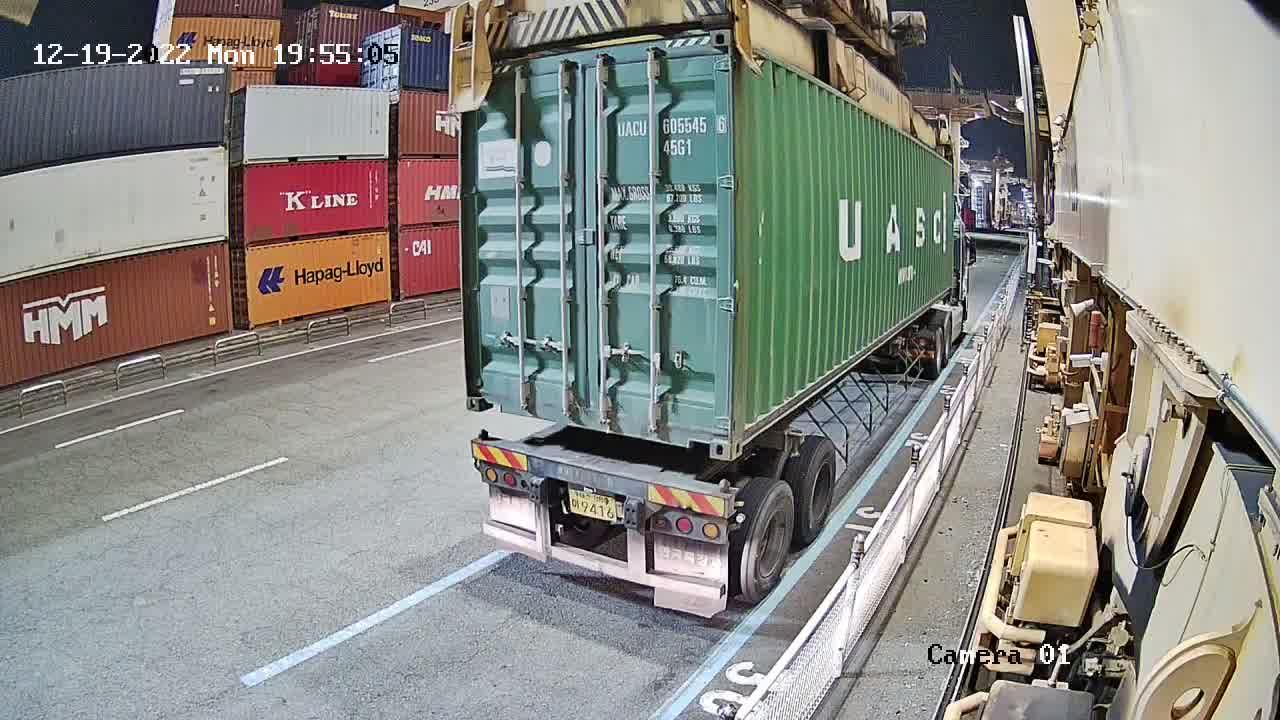Chassis: (472, 436, 738, 527)
Cone: (713, 477, 737, 495), (472, 428, 492, 441)
Hole_L: (730, 388, 762, 465), (465, 371, 507, 416)
Hole_R: (683, 405, 731, 462)
Tire: (740, 485, 792, 605), (797, 442, 837, 542)
